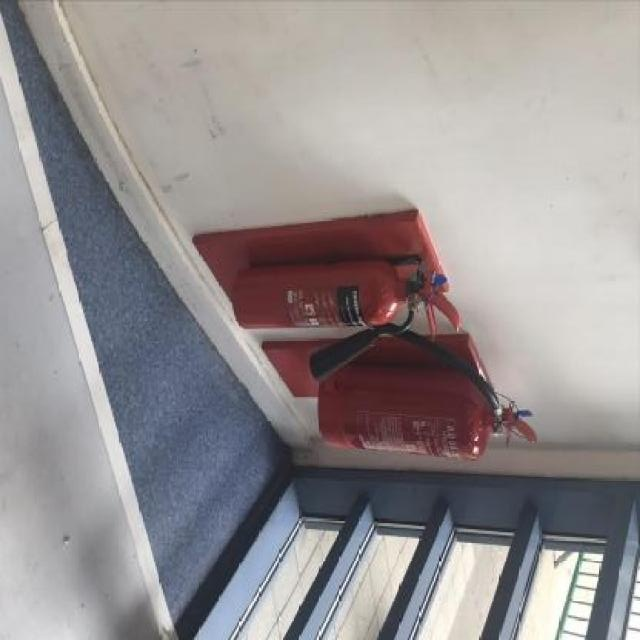fire extinguisher: (317, 324, 537, 462), (233, 257, 461, 381)
